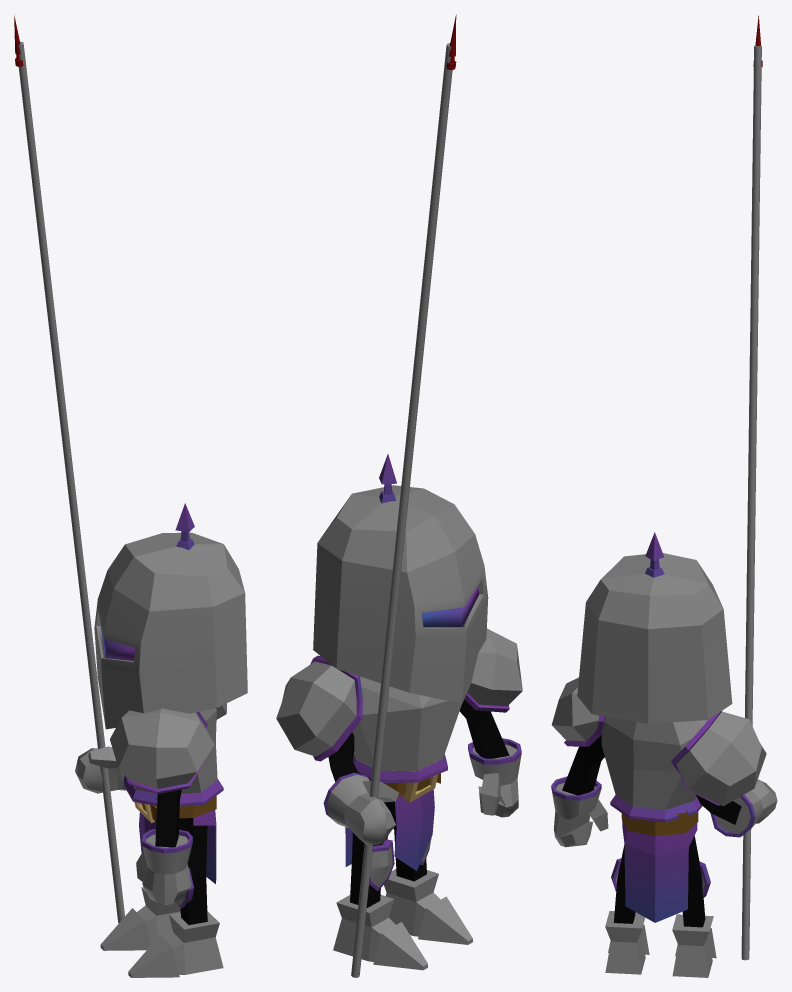
The model's file is npc7.glb.
The picture shows the model from 3 angles, left to right: view 1: azimuth 30°, elevation 25°; view 2: azimuth 150°, elevation 25°; view 3: azimuth 270°, elevation 25°; orthographic projection. The views are drawn at different scales.
Visible parts, largest first — view 1: Soldier_33_Ferro03_Mat_0; view 2: Soldier_33_Ferro03_Mat_0; view 3: Soldier_33_Ferro03_Mat_0.
Boxes of the visible parts, <box> form: Soldier_33_Ferro03_Mat_0: <box>14,14,247,977</box>; Soldier_33_Ferro03_Mat_0: <box>276,14,522,977</box>; Soldier_33_Ferro03_Mat_0: <box>551,15,777,977</box>.
Size of the model in its own units: 0.8699 by 4.14 by 0.9438.
Materials: 1 (1 with a texture image).
